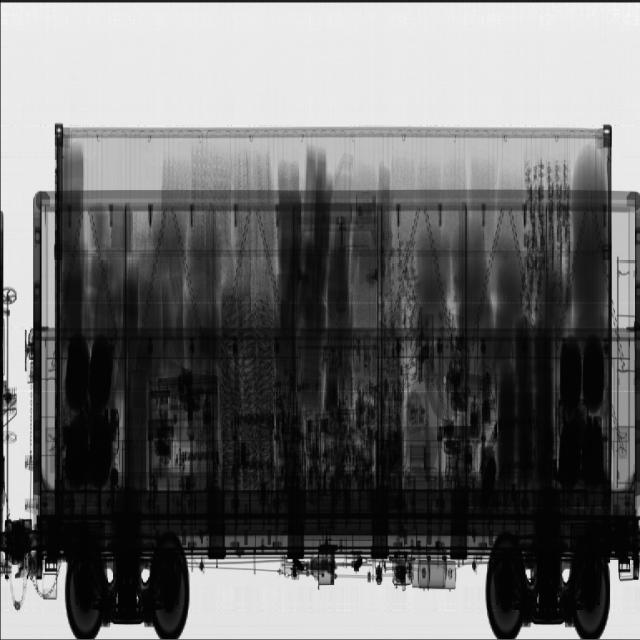fabrics: (62, 156, 623, 489)
